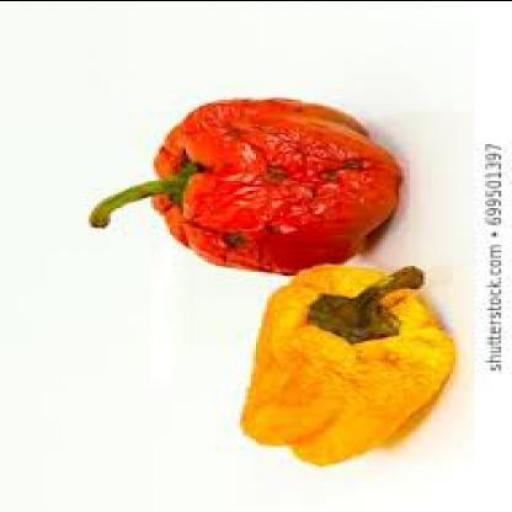biodegradable: (86, 98, 401, 272), (237, 266, 456, 470)
